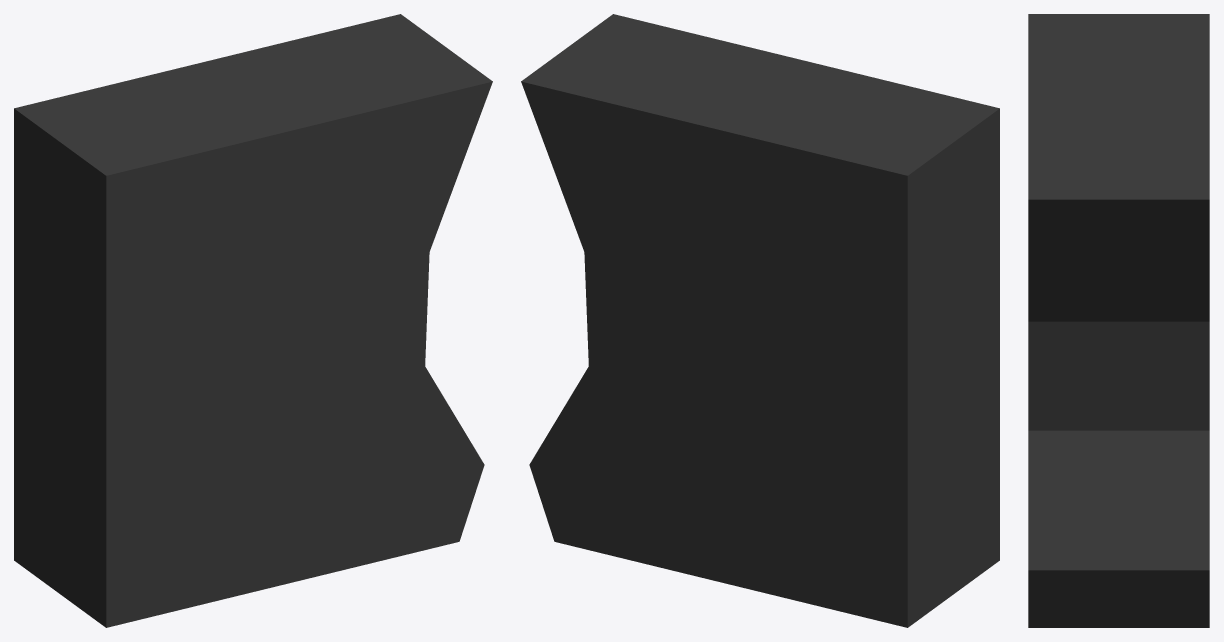
Rendered from AssaultRifle2_01_3.fbx.
The picture shows the model from 3 angles, left to right: view 1: azimuth 30°, elevation 25°; view 2: azimuth 150°, elevation 25°; view 3: azimuth 270°, elevation 25°; orthographic projection.
Parts seen in each view (by area): view 1: AssaultRifle2_01_3; view 2: AssaultRifle2_01_3; view 3: AssaultRifle2_01_3.
Boxes of the visible parts, x1=… form: AssaultRifle2_01_3: x1=14, y1=14, x2=492, y2=627; AssaultRifle2_01_3: x1=521, y1=14, x2=999, y2=627; AssaultRifle2_01_3: x1=1028, y1=14, x2=1209, y2=627.
Bounding box in the file's own units: 0.0253 × 0.0282 × 0.0104.
